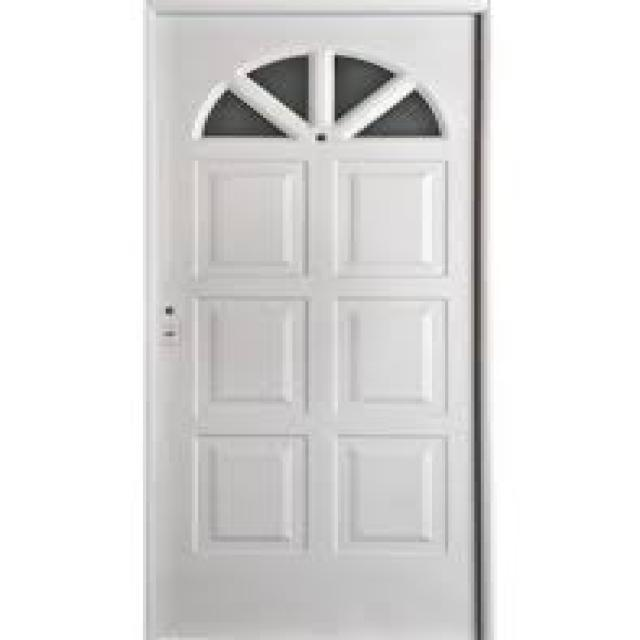door: (143, 1, 484, 639)
